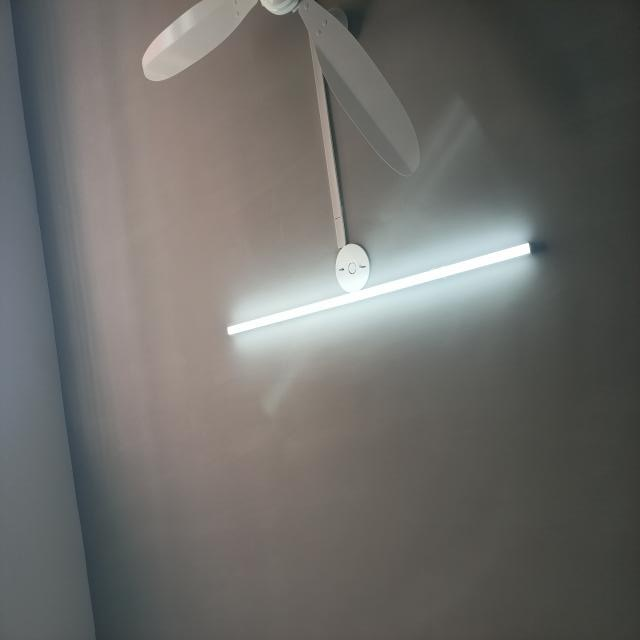fluorescent tube: (219, 237, 541, 341)
